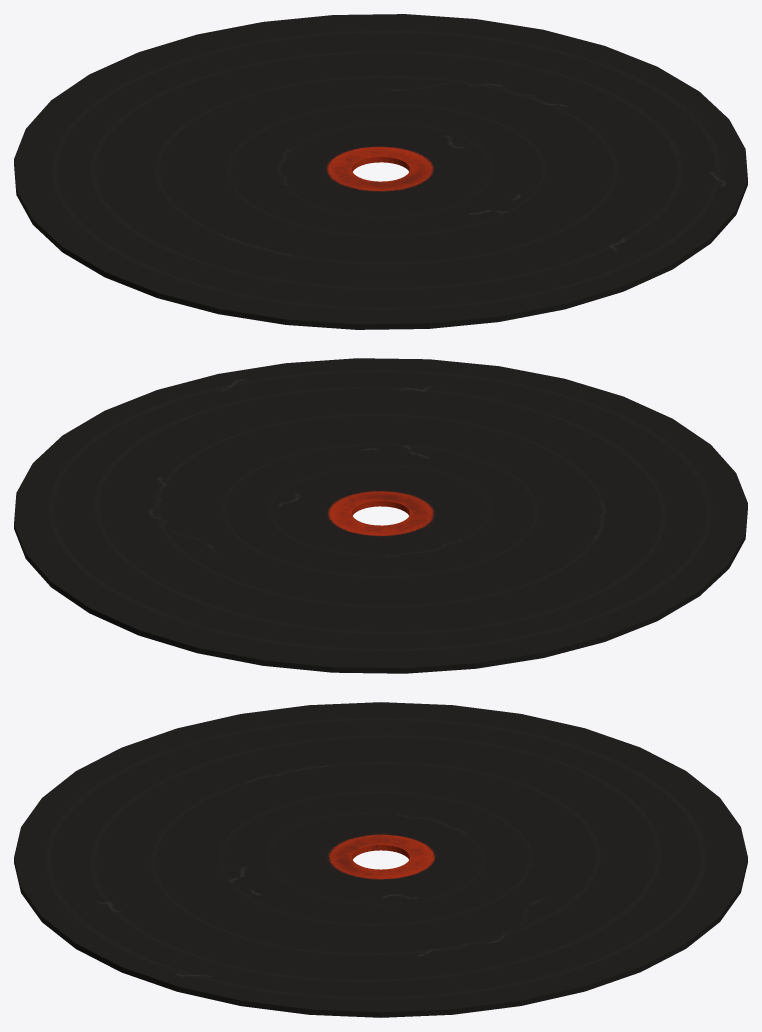
File: Disco 1.fbx
3 renders of one model, top to bottom at view 1: azimuth 30°, elevation 25°; view 2: azimuth 150°, elevation 25°; view 3: azimuth 270°, elevation 25°, orthographic.
Visible parts, largest first — view 1: Disco; view 2: Disco; view 3: Disco.
Boxes of the visible parts, bbox=[...] form: Disco: bbox=[14, 14, 747, 329]; Disco: bbox=[14, 358, 747, 673]; Disco: bbox=[14, 702, 747, 1017].
Bounding box in the file's own units: 81.97 × 0.7043 × 81.97.
Materials: 1 (1 with a texture image).
